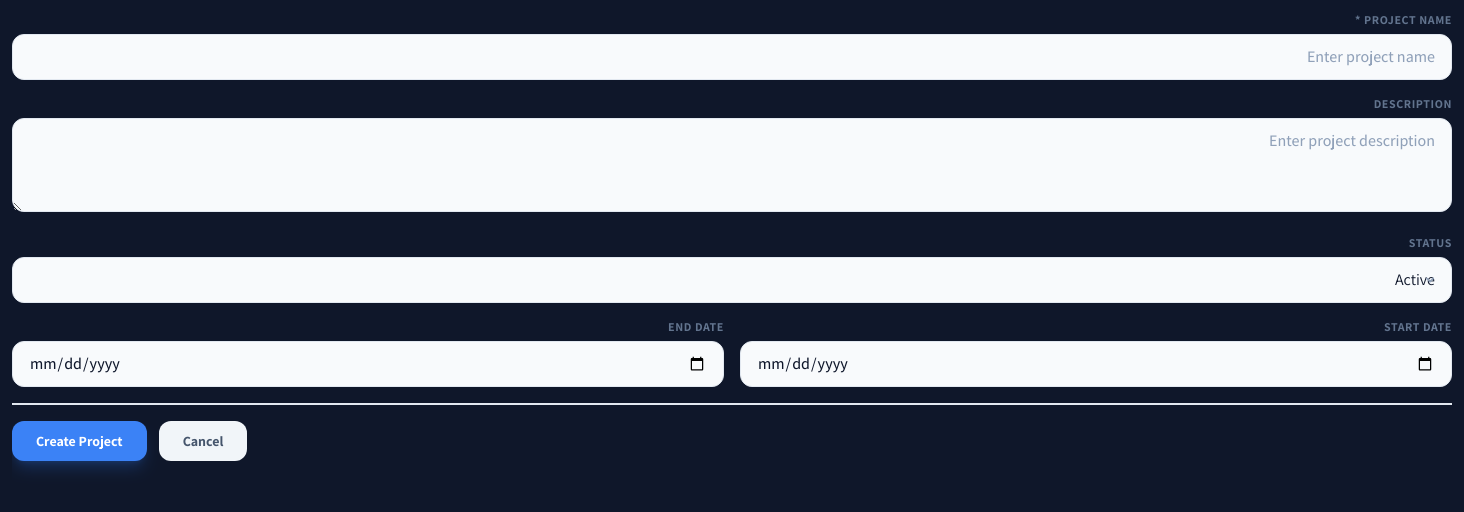
ProjectForm › validation › shows error when end date is before start date
Step 1. Type "Project" into the field labelled "Project Name *" → (732, 57), box [12,34,1452,80]
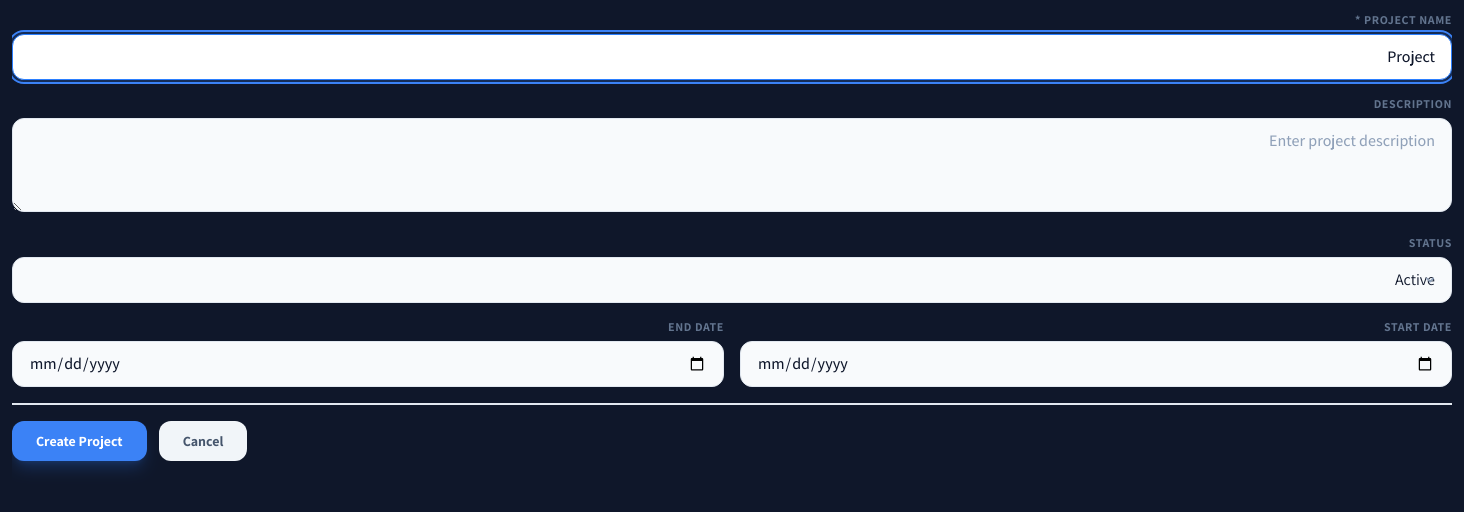
Step 2. Type "2024-06-01" into the date field labelled "Start Date" → (1096, 364), box [740,341,1452,387]
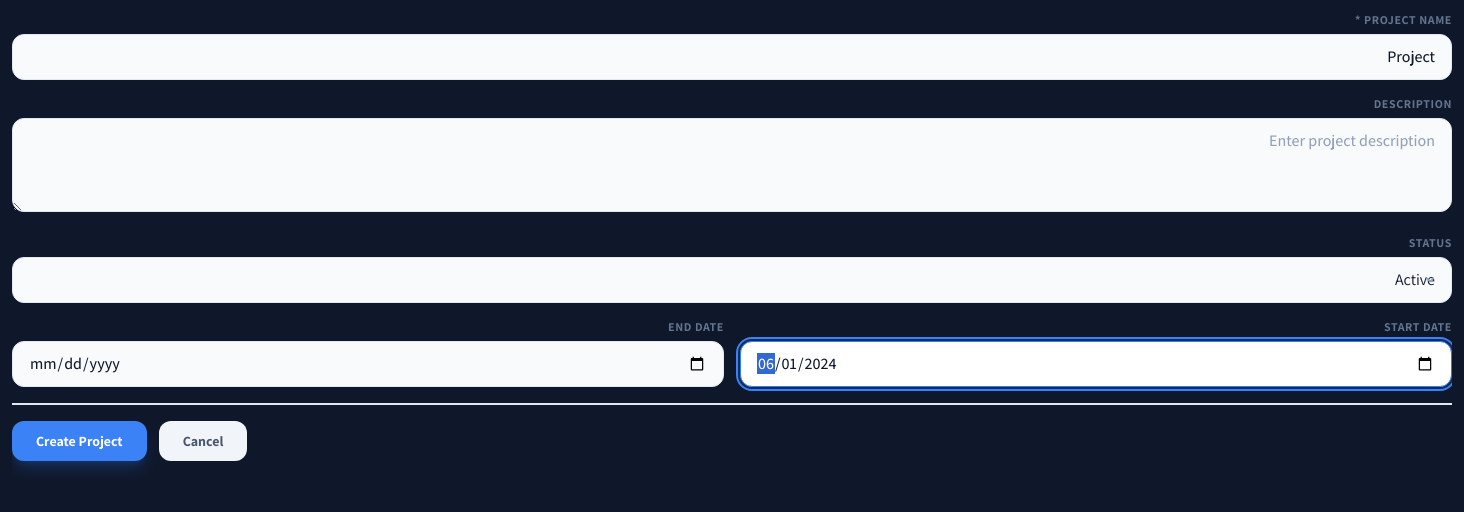
Step 3. Type "2024-01-01" into the date field labelled "End Date" → (368, 364), box [12,341,724,387]
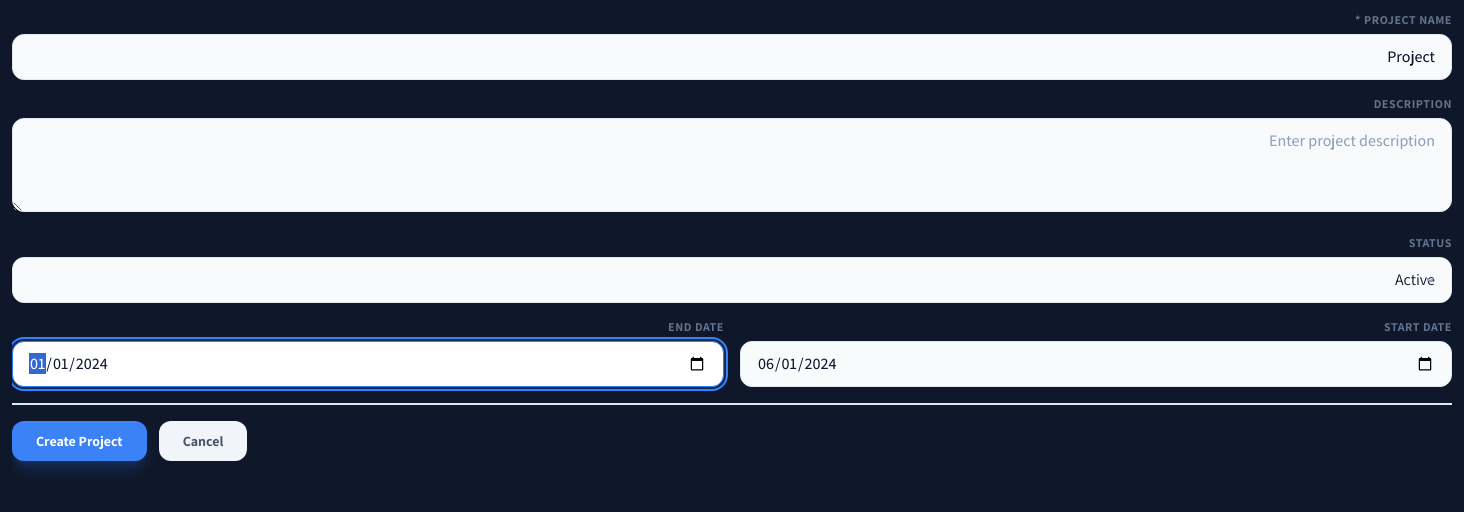
Step 4. Click the button "Create Project" → (79, 441), box [12,421,147,461]
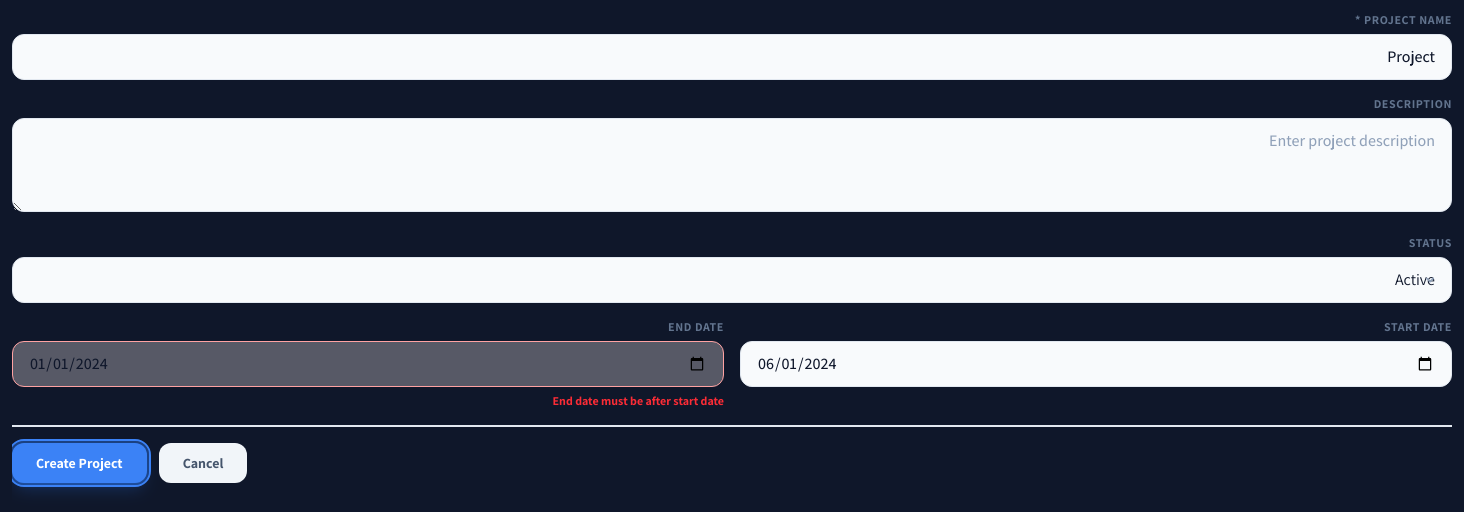
Result: the text "End date must be after start date" is shown at [553,393,724,408]
